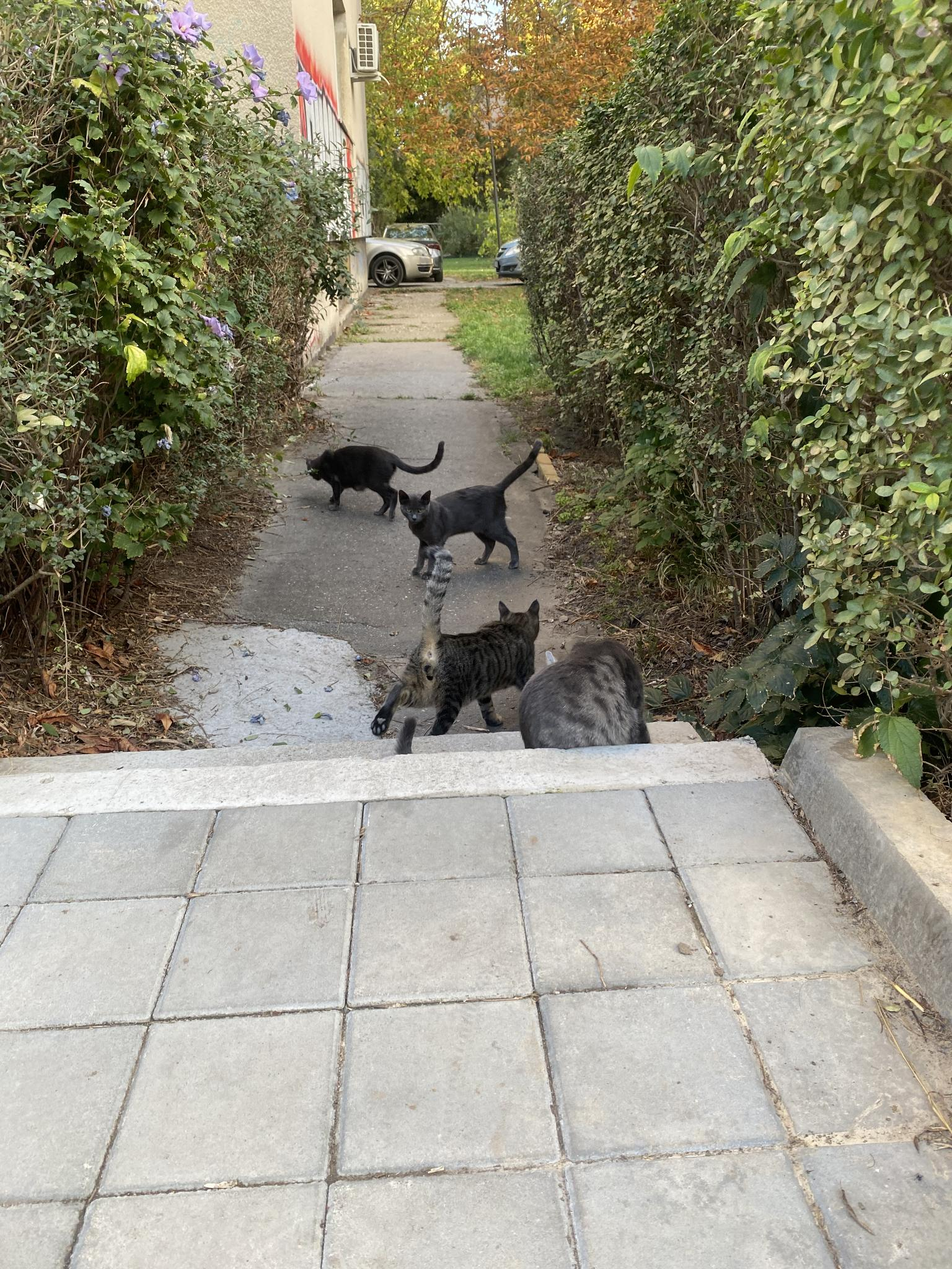macka: (369, 544, 540, 736), (398, 439, 544, 579), (518, 641, 650, 750), (306, 441, 445, 518)
